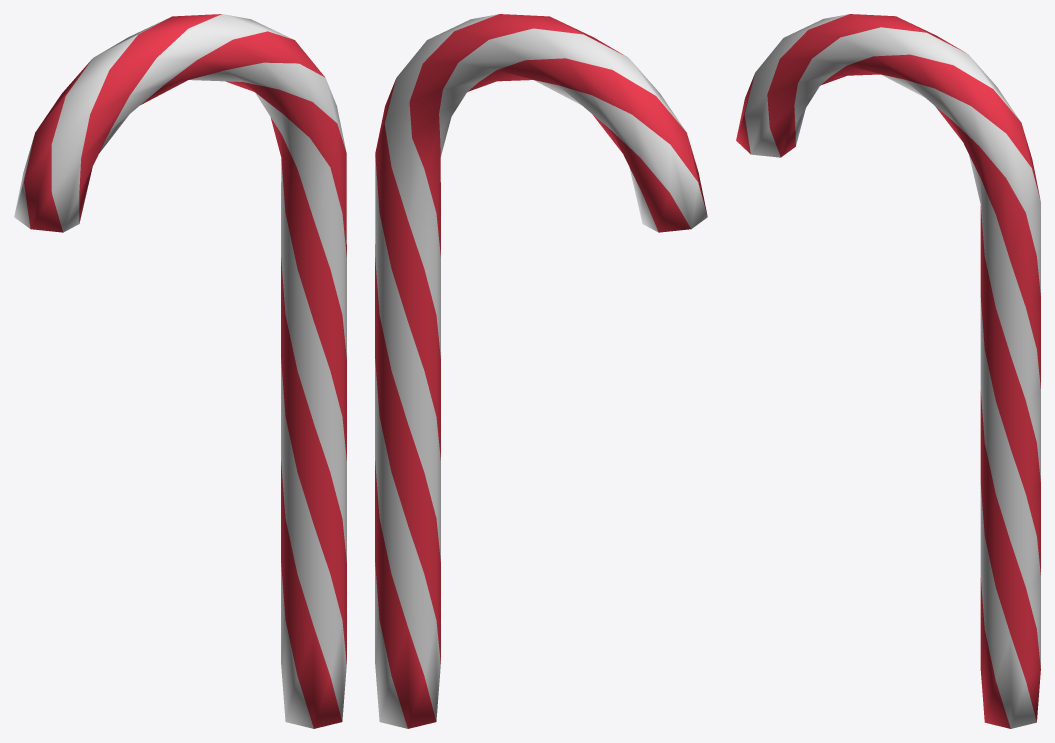
Rendered from Seker.fbx.
3 views of the same model, side by side, from view 1: azimuth 30°, elevation 25°; view 2: azimuth 150°, elevation 25°; view 3: azimuth 330°, elevation 25° (orthographic). The views are drawn at different scales.
Visible parts, largest first — view 1: Candy; view 2: Candy; view 3: Candy.
Boxes of the visible parts, <box> form: Candy: <box>14,14,346,728</box>; Candy: <box>375,14,707,728</box>; Candy: <box>736,14,1040,728</box>.
Bounding box in the file's own units: 240 × 519 × 42.6.
